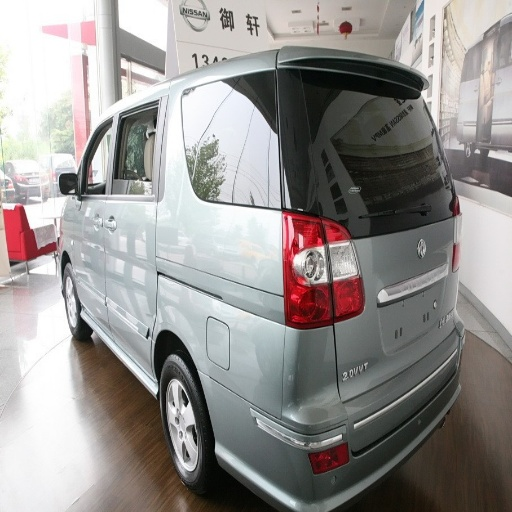back_bumper: (217, 344, 456, 511)
back_glass: (298, 73, 433, 193)
back_left_door: (113, 101, 161, 196)
back_left_light: (281, 224, 325, 325)
back_right_door: (78, 235, 107, 322)
trunk: (130, 217, 446, 409)
